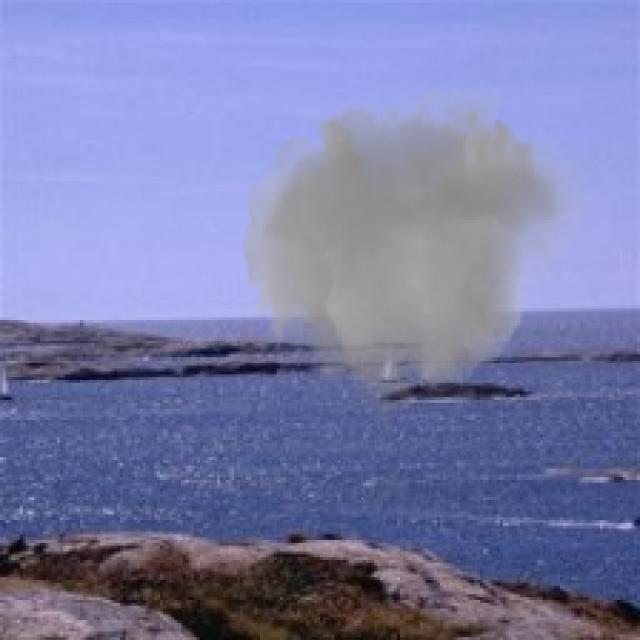smoke: (235, 71, 594, 432)
